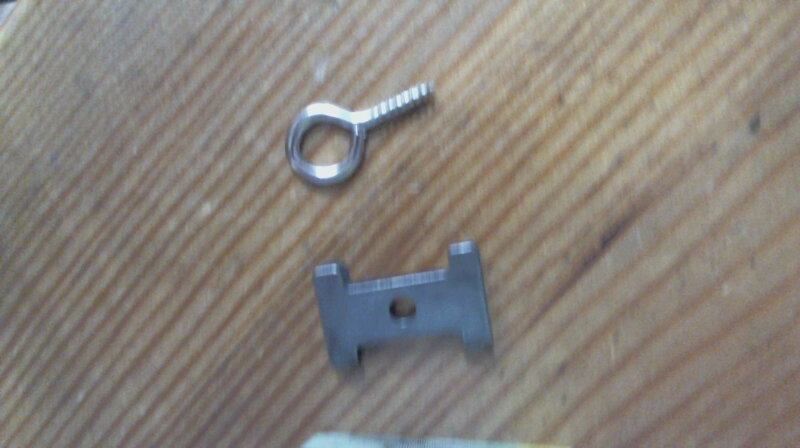O001: (276, 75, 447, 189)
O002: (308, 238, 499, 375)
